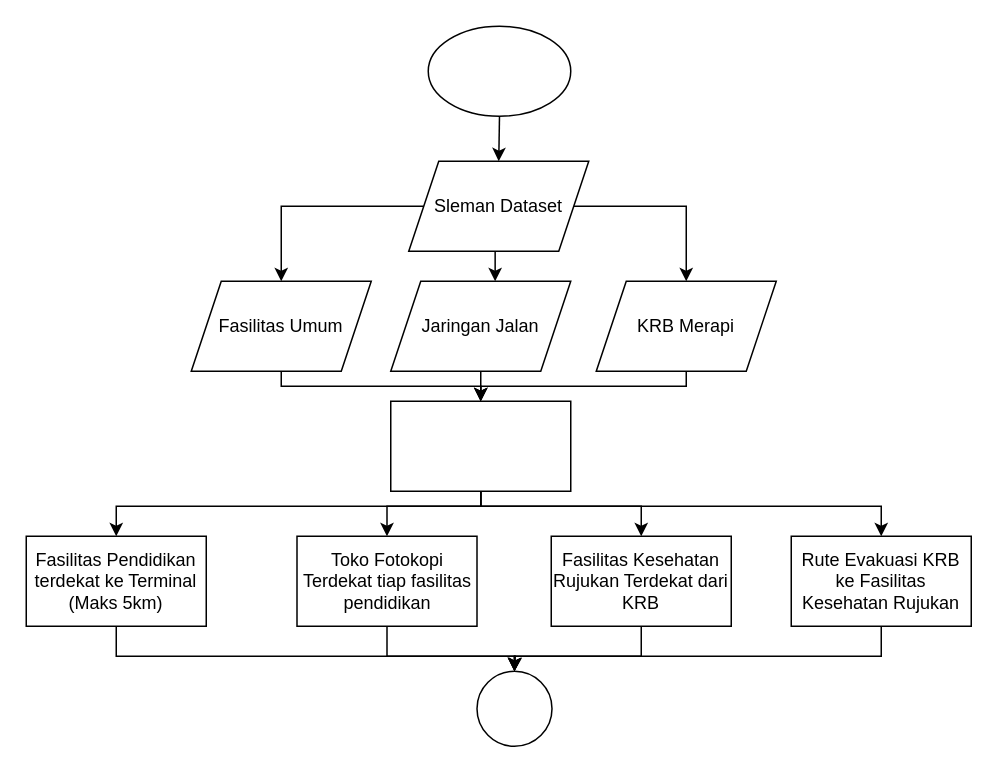
This 998x773 diagram has some shape labels left out. The shapes that lost their labels are listed below. From the top down, each one's box as (x1, y1, x2, y2) in pixels, then its label:
(427, 25, 571, 116): Mulai
(389, 400, 571, 491): Analisa Jaringan
